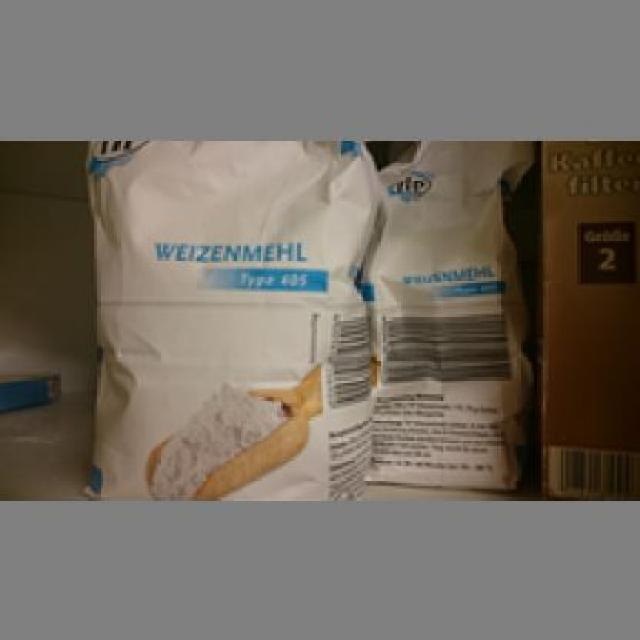Flour: (83, 137, 366, 500), (363, 140, 531, 489)
